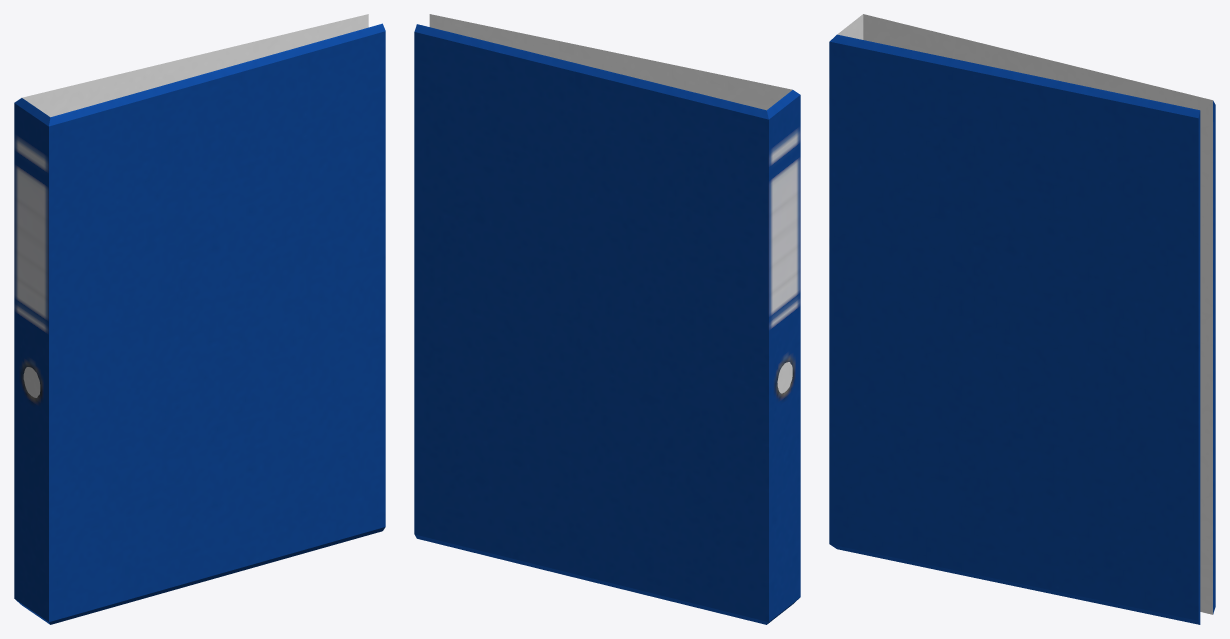
The model's file is Folder.FBX.
3 renders of one model, left to right at view 1: azimuth 30°, elevation 25°; view 2: azimuth 150°, elevation 25°; view 3: azimuth 330°, elevation 25°, orthographic.
Visible parts, largest first — view 1: Folder; view 2: Folder; view 3: Folder.
Part boxes in pixels (bbox=[...]): Folder: bbox=[14, 14, 385, 624]; Folder: bbox=[414, 14, 800, 624]; Folder: bbox=[829, 14, 1215, 624].
Size of the model in its own units: 25.66 by 35.35 by 4.15.
1 material, 1 textured.
